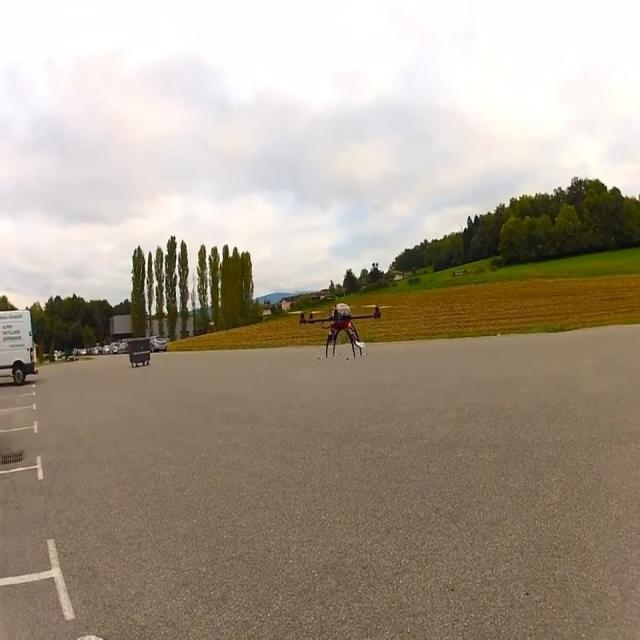drone: (298, 302, 385, 358)
